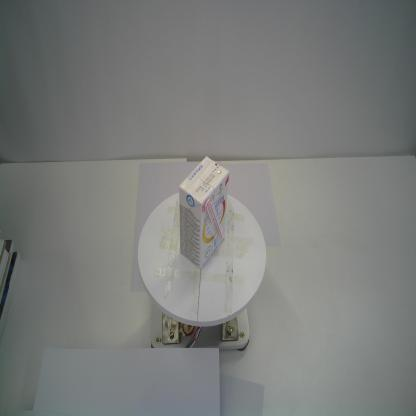Milk: (178, 156, 230, 270)
